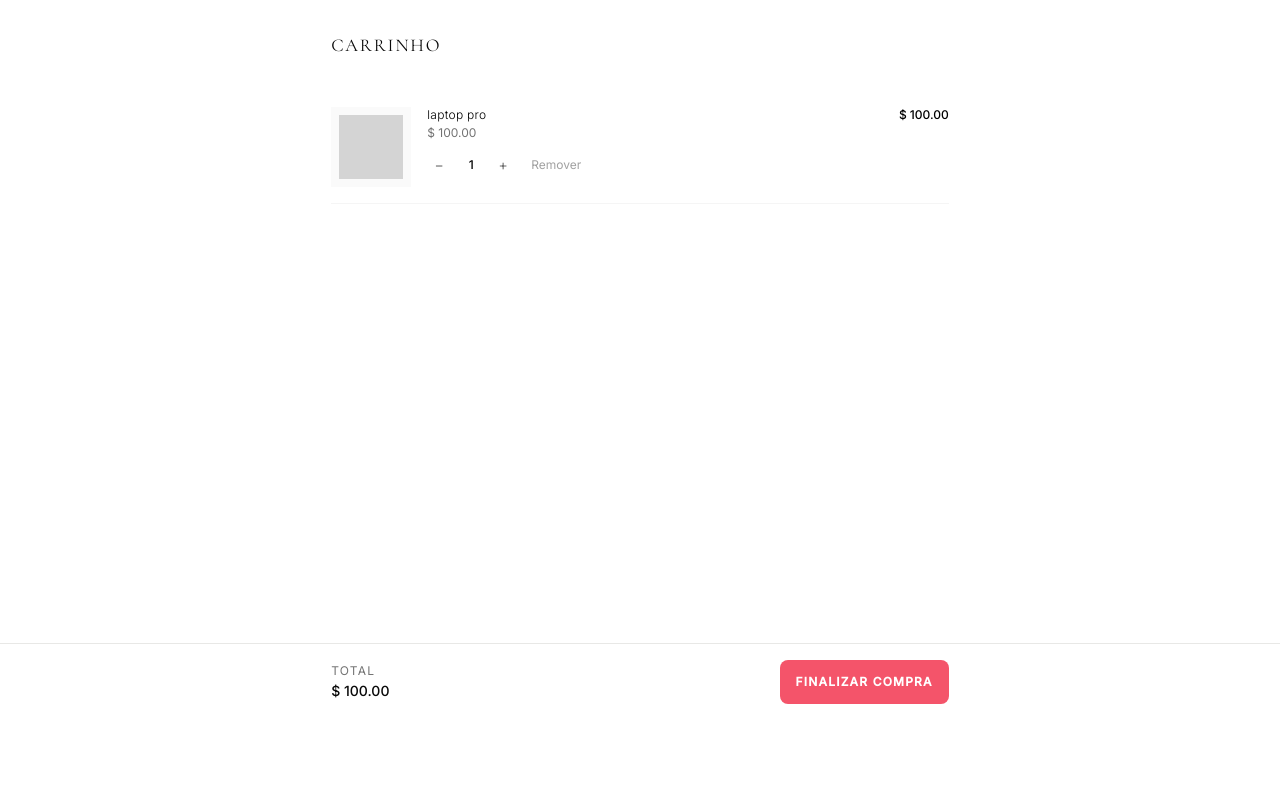
Test case: CartPage › CA-F3.2-5: clicking "Finalizar compra" clears cart and shows success message
Click the button "Finalizar compra": (864,682) [780, 660, 949, 704]
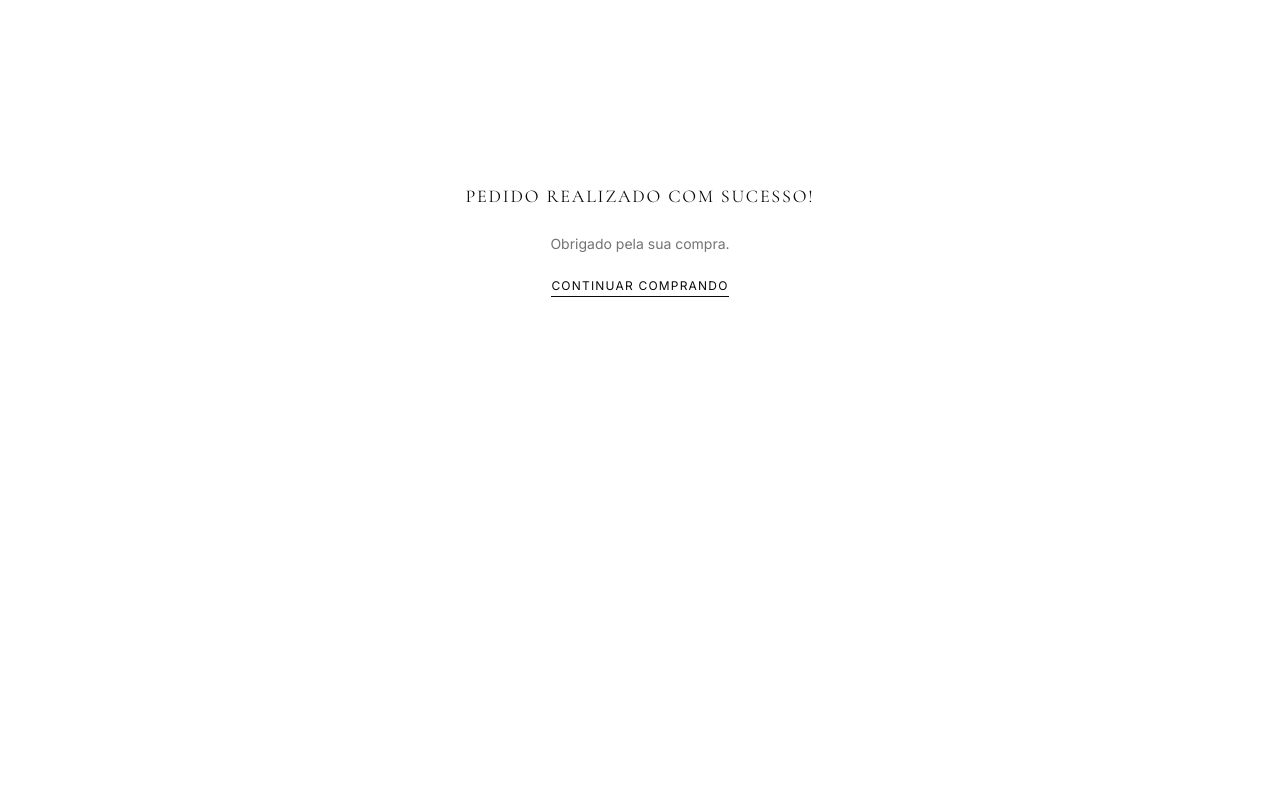
Now the heading "Pedido realizado com sucesso!" is shown, box [466, 183, 814, 210]
